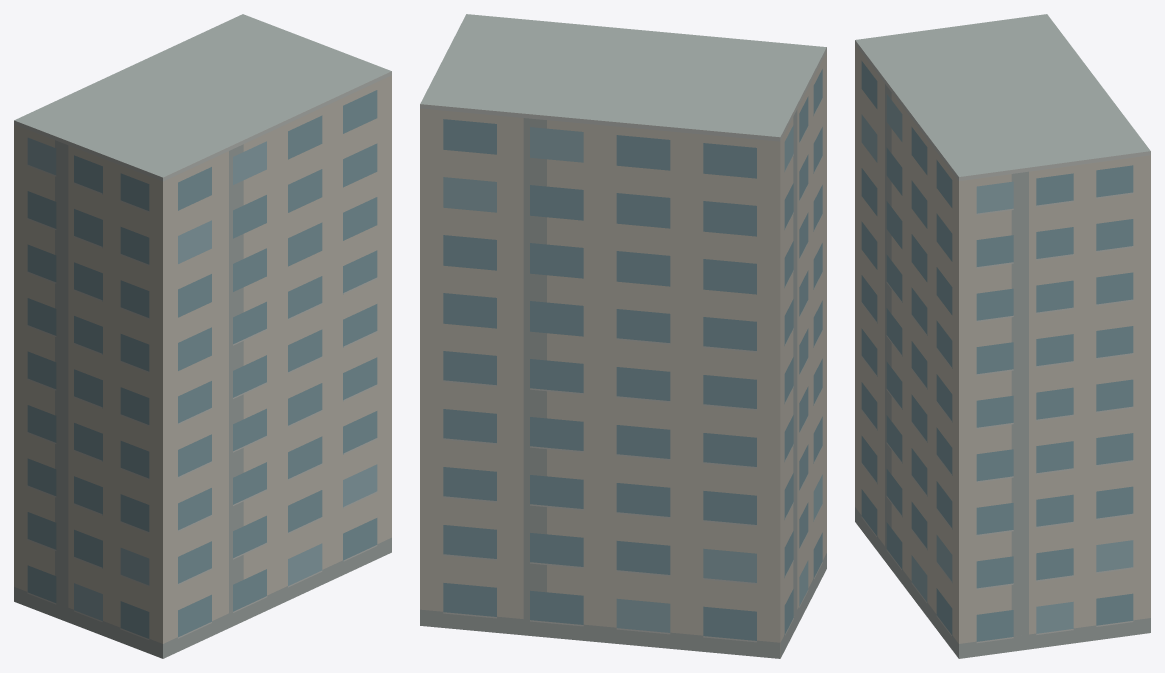
File: residential-1ea0a242-b544-417e-bfe4-a927576fb09c.glb
3 renders of one model, left to right at view 1: azimuth 30°, elevation 25°; view 2: azimuth 150°, elevation 25°; view 3: azimuth 270°, elevation 25°, orthographic. The views are drawn at different scales.
Parts seen in each view (by area): view 1: residential-1ea0a242-b544-417e-bfe4-a927576fb09c.tmp; view 2: residential-1ea0a242-b544-417e-bfe4-a927576fb09c.tmp; view 3: residential-1ea0a242-b544-417e-bfe4-a927576fb09c.tmp.
Part boxes in pixels (x1,y1,x2,y2): residential-1ea0a242-b544-417e-bfe4-a927576fb09c.tmp: (14, 14, 391, 658); residential-1ea0a242-b544-417e-bfe4-a927576fb09c.tmp: (420, 14, 826, 658); residential-1ea0a242-b544-417e-bfe4-a927576fb09c.tmp: (855, 14, 1150, 658).
Size of the model in its own units: 21.06 by 29 by 16.14.
